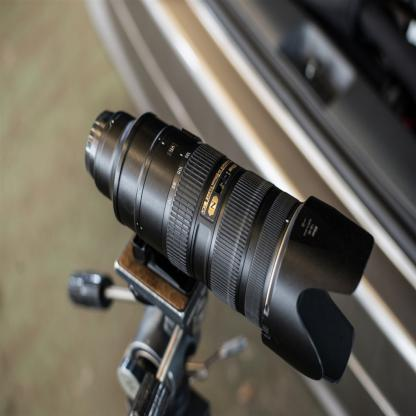Camera: (70, 106, 378, 416)
